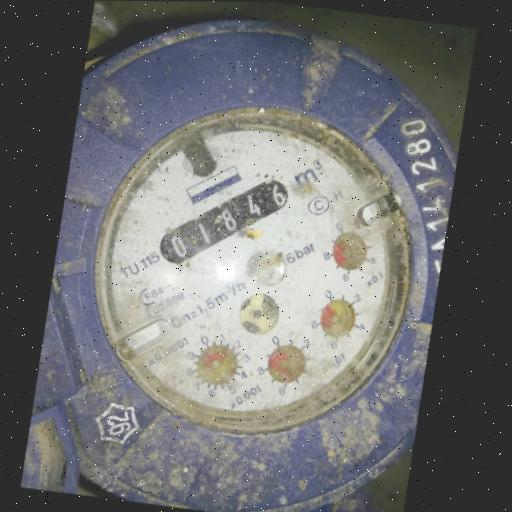0: (159, 224, 199, 266)
1: (183, 209, 224, 252)
4: (233, 184, 274, 226)
6: (258, 172, 295, 213)
8: (206, 196, 250, 240)
border_water_meter_number: (149, 159, 297, 282)
